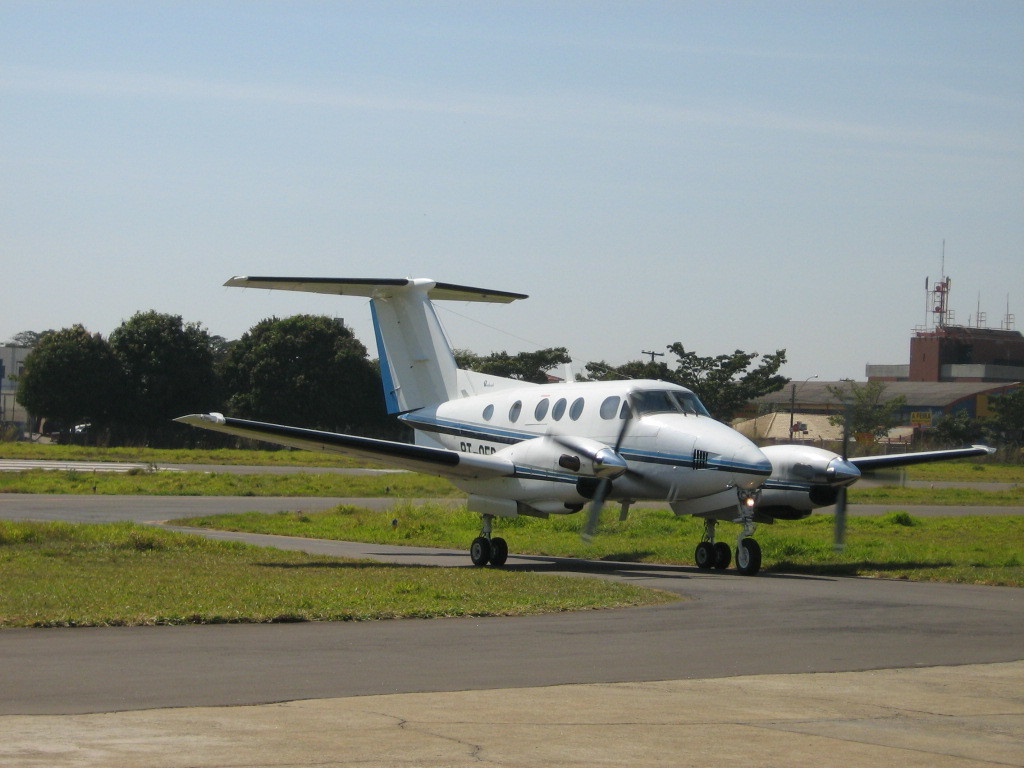Tree: (0, 310, 796, 451), (816, 381, 908, 460), (912, 407, 984, 453), (977, 383, 1024, 449)
